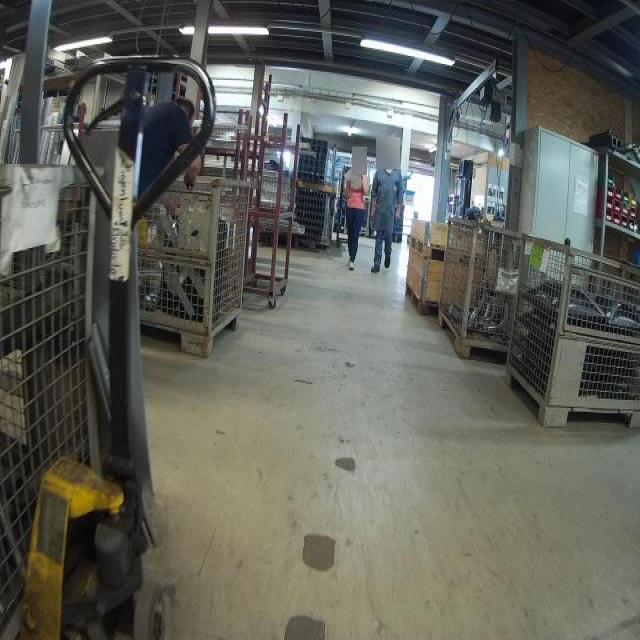pallet: (407, 233, 486, 269), (404, 281, 440, 318)
pallet_truck: (7, 32, 226, 639)
stillage: (2, 144, 115, 639), (497, 224, 640, 433), (144, 175, 250, 359), (434, 214, 532, 365)
